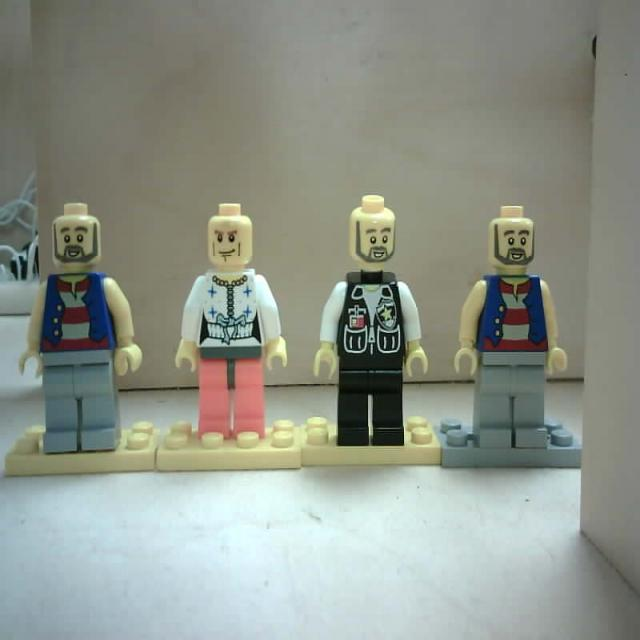Lego-People: (19, 205, 141, 455), (314, 198, 427, 447), (458, 203, 567, 449), (183, 203, 287, 448)
